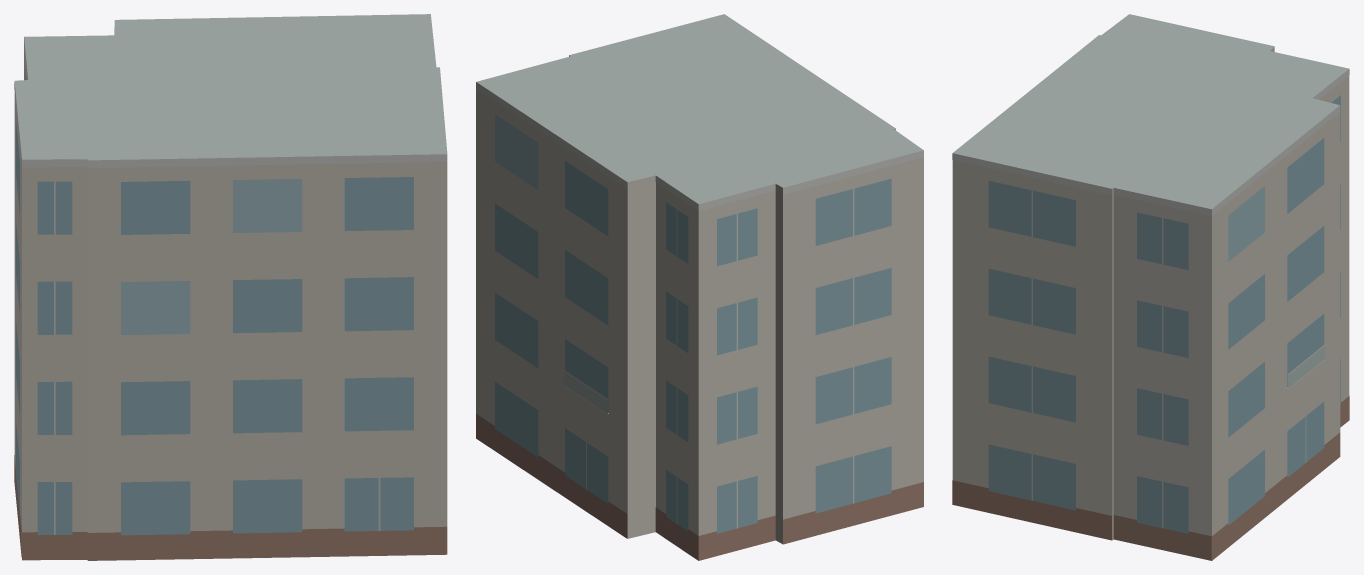
Rendered from survey-upis-32660074.glb.
The picture shows the model from 3 angles, left to right: view 1: azimuth 30°, elevation 25°; view 2: azimuth 150°, elevation 25°; view 3: azimuth 270°, elevation 25°; orthographic projection. The views are drawn at different scales.
Parts seen in each view (by area): view 1: survey-upis-32660074.tmp; view 2: survey-upis-32660074.tmp; view 3: survey-upis-32660074.tmp.
Boxes of the visible parts, x1=… form: survey-upis-32660074.tmp: x1=14, y1=14, x2=447, y2=560; survey-upis-32660074.tmp: x1=476, y1=14, x2=923, y2=560; survey-upis-32660074.tmp: x1=952, y1=14, x2=1349, y2=560.
Size of the model in its own units: 15.15 by 12.71 by 13.02.
